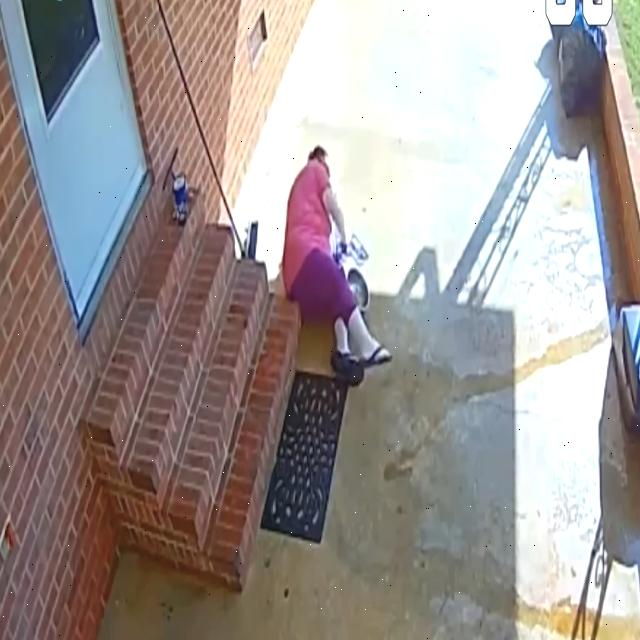fallen: (282, 145, 392, 384)
